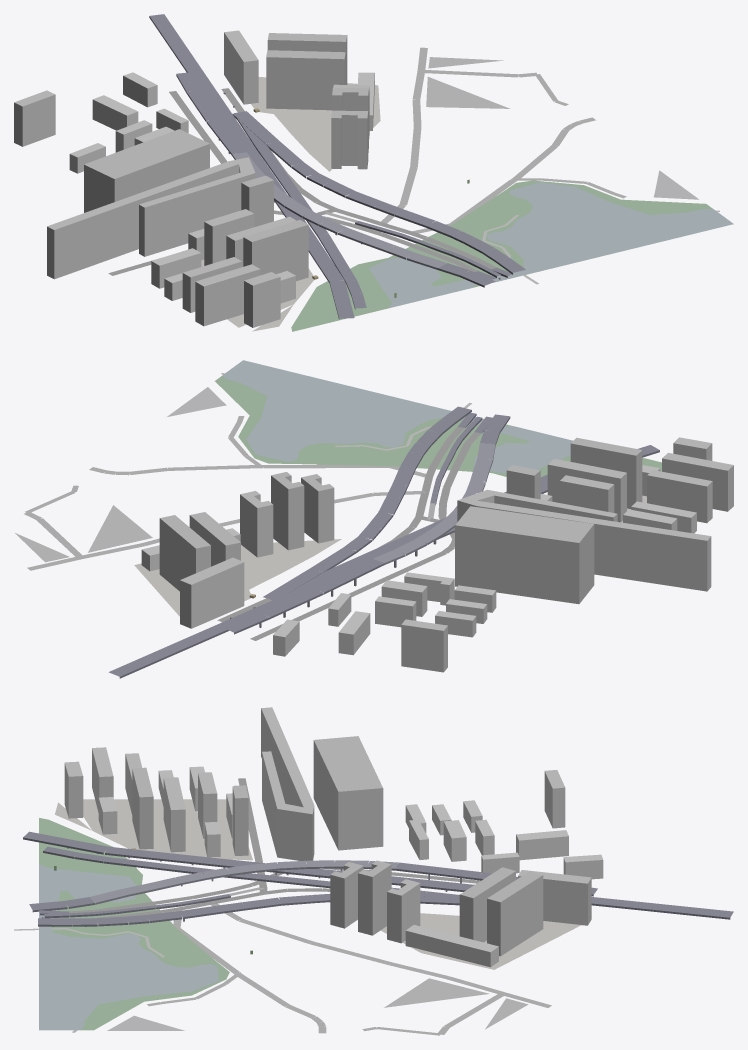
3 views of the same model, one above another, from view 1: azimuth 30°, elevation 25°; view 2: azimuth 150°, elevation 25°; view 3: azimuth 270°, elevation 25° (orthographic). The views are drawn at different scales.
Size of the model in its own units: 604 by 61.77 by 661.
